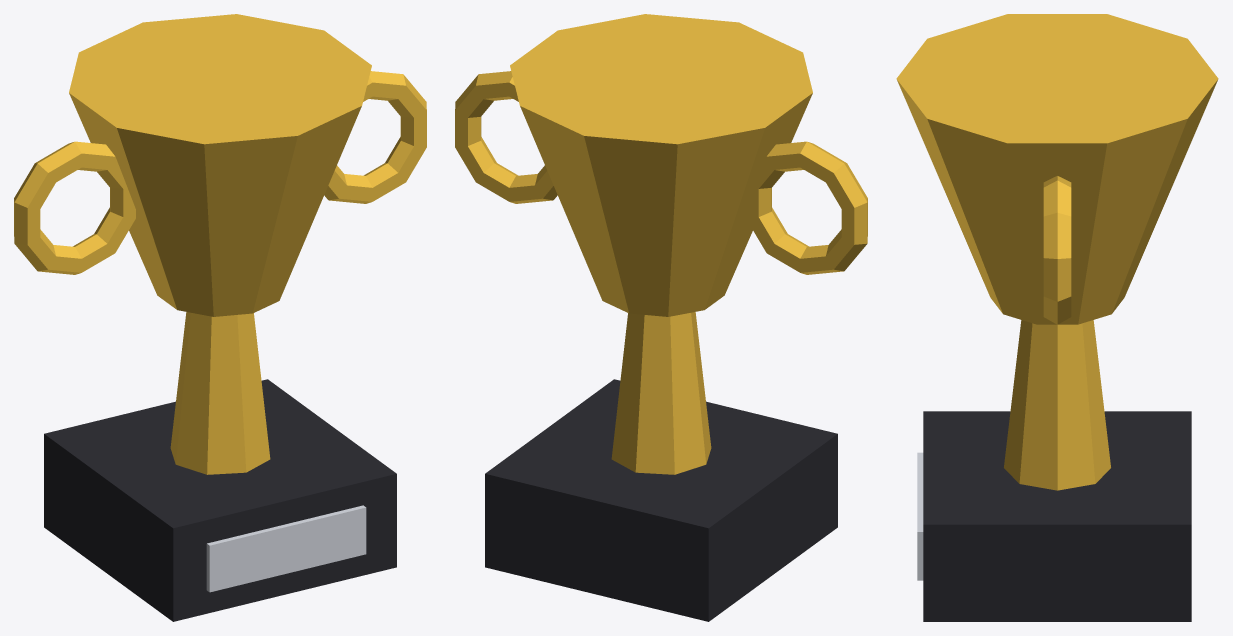
The model's file is bowl_rigged_cup.glb.
3 renders of one model, left to right at view 1: azimuth 30°, elevation 25°; view 2: azimuth 150°, elevation 25°; view 3: azimuth 270°, elevation 25°, orthographic. The views are drawn at different scales.
Visible parts, largest first — view 1: cup_trophy_gold, base_cup_base, handles_trophy_gold, stem_trophy_gold, plate_cup_plate; view 2: cup_trophy_gold, base_cup_base, handles_trophy_gold, stem_trophy_gold; view 3: cup_trophy_gold, base_cup_base, stem_trophy_gold, handles_trophy_gold, plate_cup_plate.
Boxes of the visible parts, x1=… form: cup_trophy_gold: x1=69, y1=14, x2=371, y2=316; base_cup_base: x1=44, y1=379, x2=396, y2=621; handles_trophy_gold: x1=14, y1=71, x2=426, y2=274; stem_trophy_gold: x1=170, y1=312, x2=270, y2=474; plate_cup_plate: x1=206, y1=505, x2=366, y2=592; cup_trophy_gold: x1=510, y1=14, x2=812, y2=316; base_cup_base: x1=485, y1=379, x2=837, y2=621; handles_trophy_gold: x1=455, y1=71, x2=867, y2=274; stem_trophy_gold: x1=611, y1=312, x2=711, y2=474; cup_trophy_gold: x1=896, y1=14, x2=1218, y2=324; base_cup_base: x1=923, y1=411, x2=1191, y2=621; stem_trophy_gold: x1=1004, y1=320, x2=1110, y2=490; handles_trophy_gold: x1=1043, y1=176, x2=1071, y2=324; plate_cup_plate: x1=917, y1=452, x2=923, y2=580.
Bounding box in the file's own units: 0.3684 × 0.4 × 0.24.
